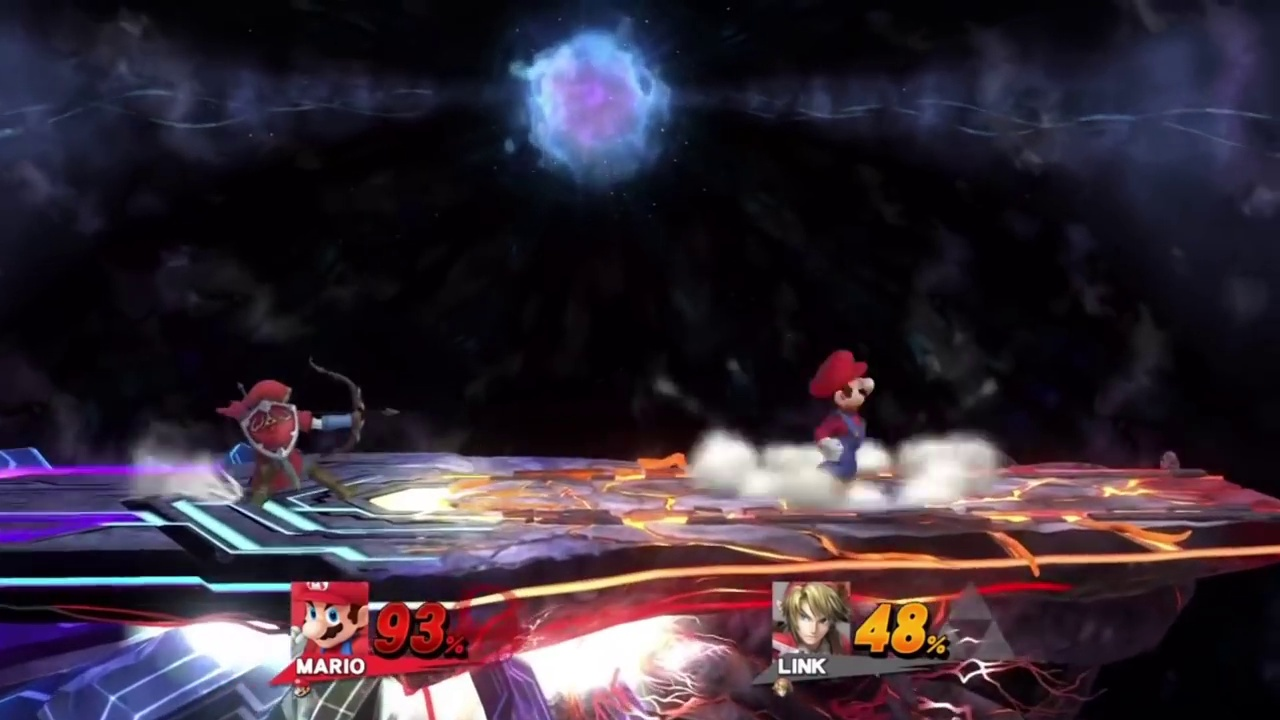Mario: (802, 351, 878, 483)
